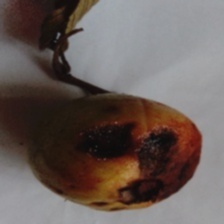guava: (0, 17, 201, 165)
